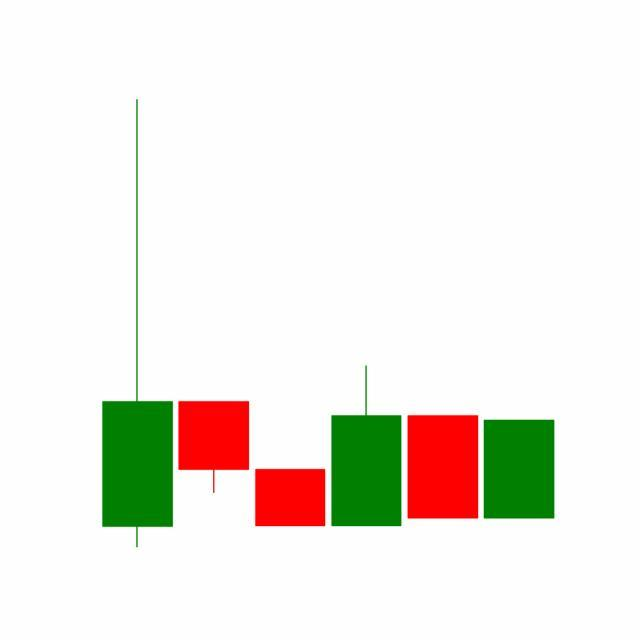Marubozu: (404, 415, 482, 521)
